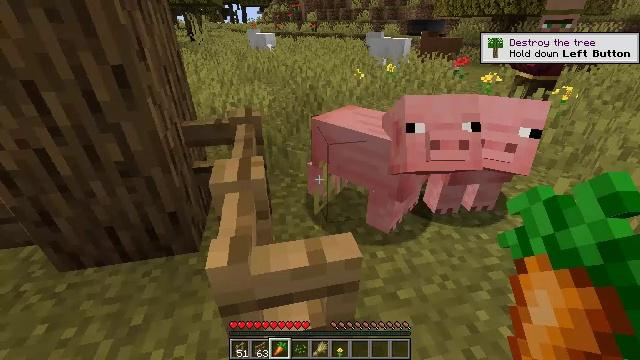pig: (309, 94, 479, 219), (463, 98, 552, 213)
sheep: (367, 31, 412, 65), (420, 32, 463, 63), (247, 29, 276, 52)
